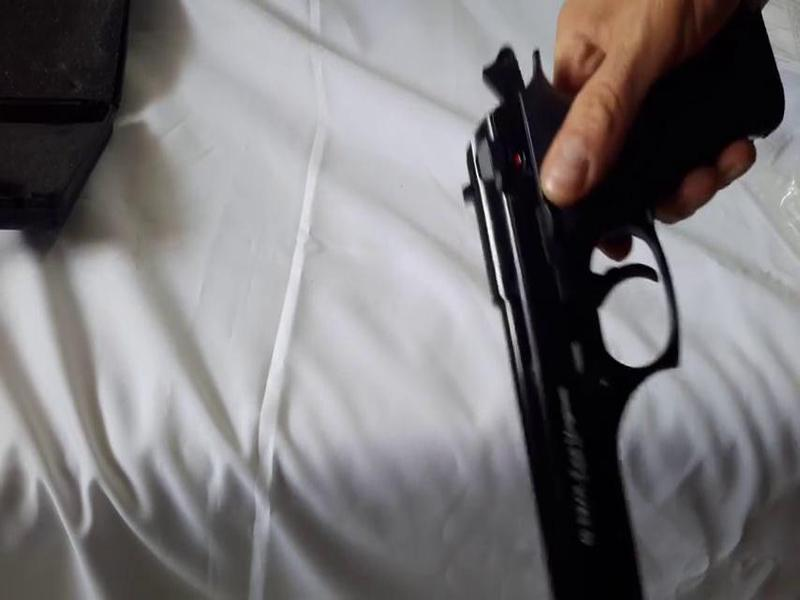Pistola: (443, 29, 798, 600)
